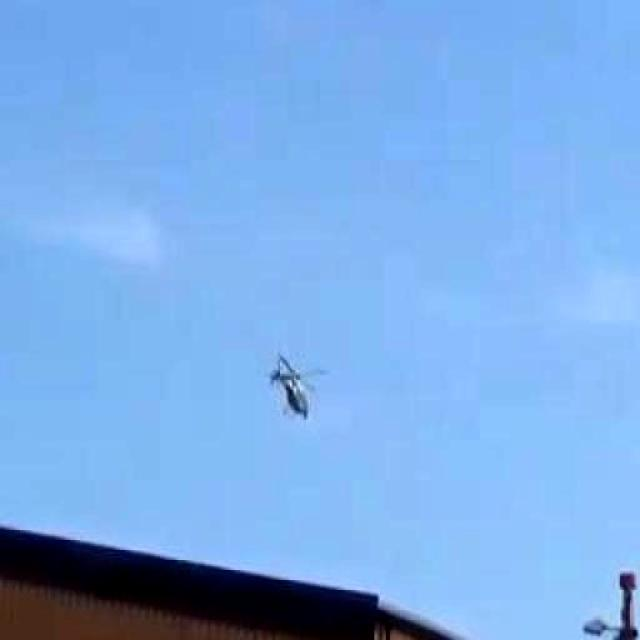drone: (240, 318, 330, 456)
